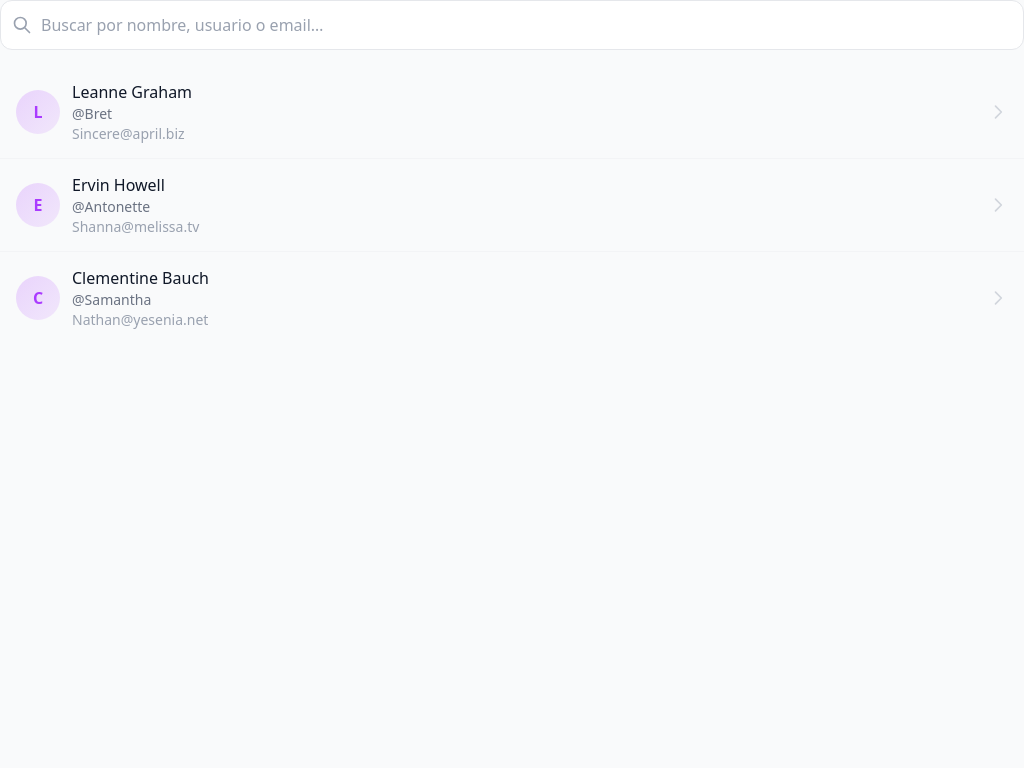
Test: Create Post Dialog › creates post successfully and closes dialog
Click the heading "Leanne Graham" at (132, 92), box [72,81,192,103]
(page scrolled)
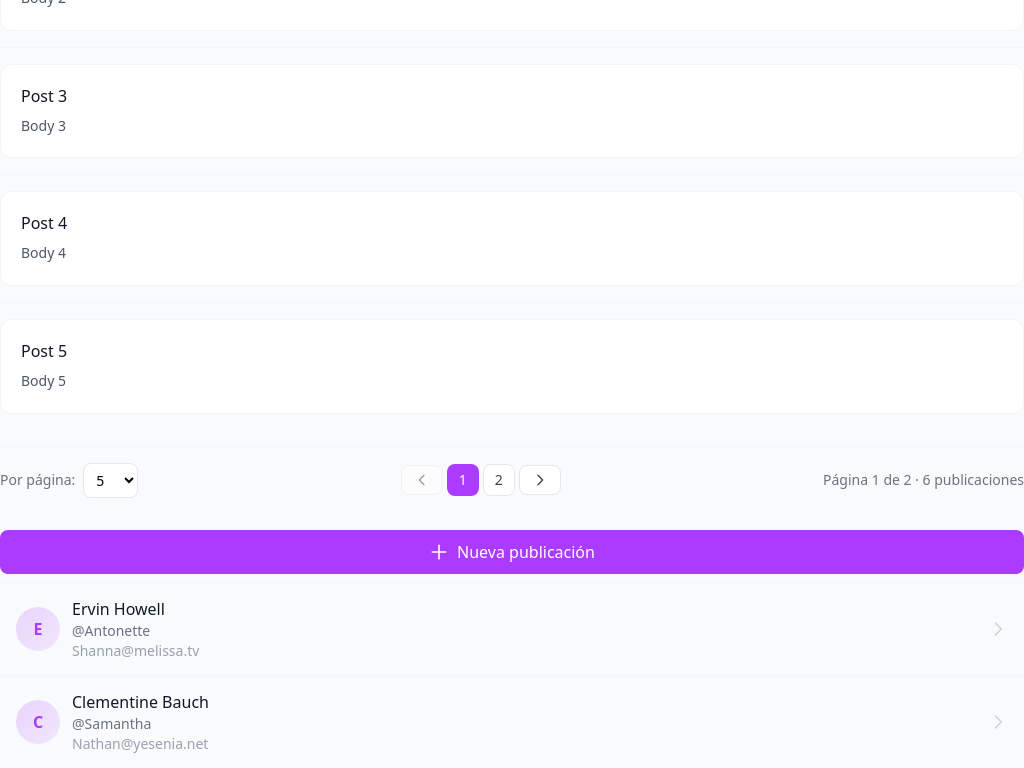
Click the button "Nueva publicación" at (512, 552), box [0,530,1023,574]
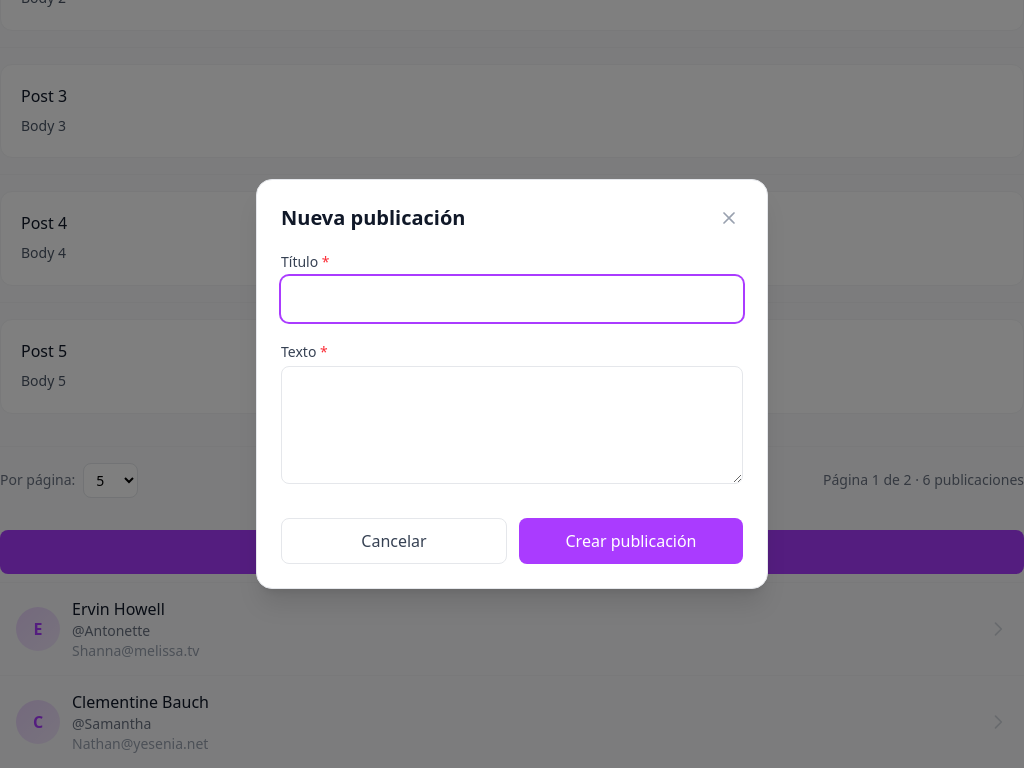
Check: the dialog "Nueva publicación" is shown
Type "Nuevo Post" into the field labelled "Título *" at (512, 299), box [281,276,743,322]
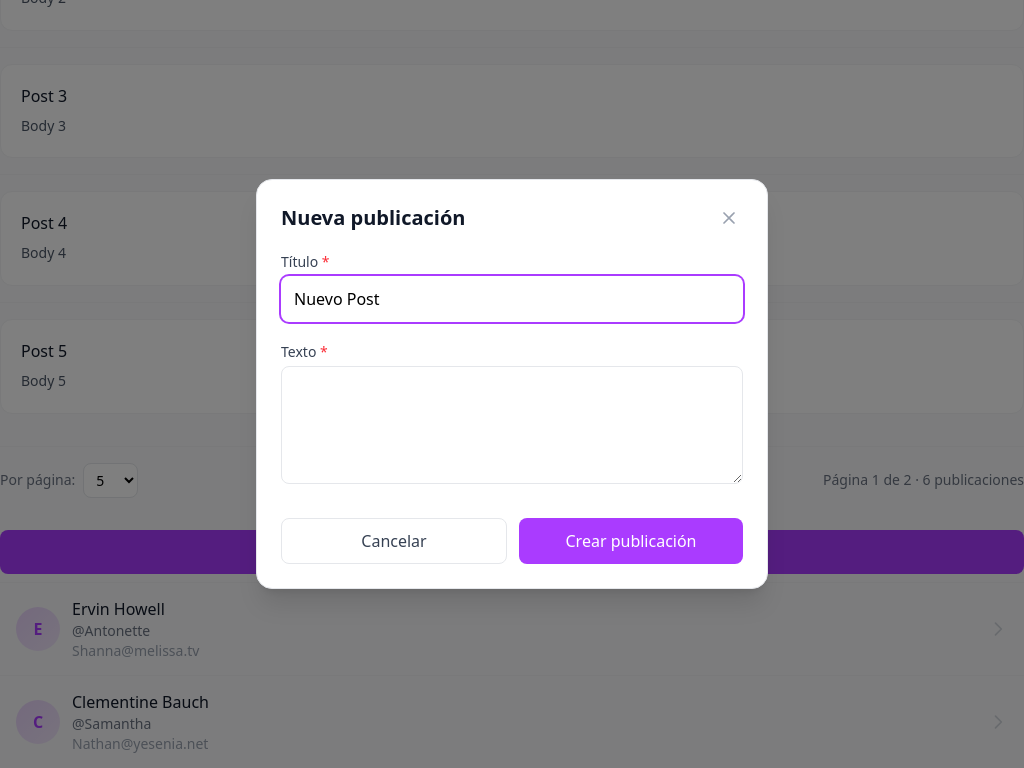
Type "Nuevo Body" into the text box labelled "Texto *" at (512, 425), box [281,366,743,484]
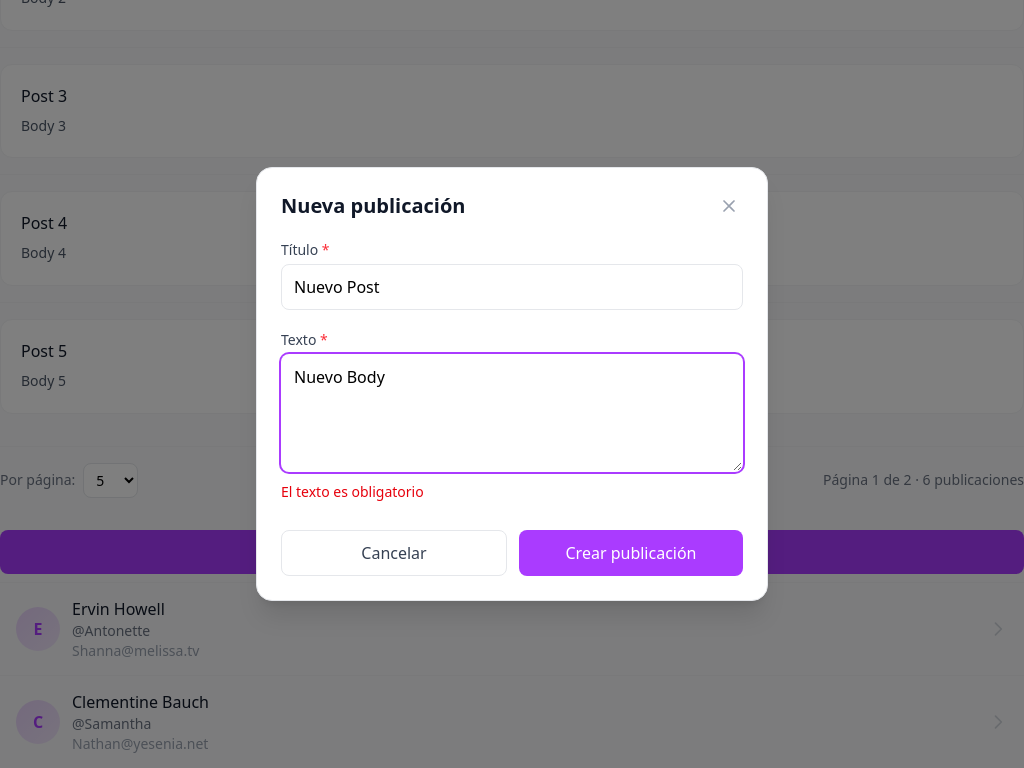
Click the button "Crear publicación" at (631, 553), box [519,530,743,576]
(page scrolled)
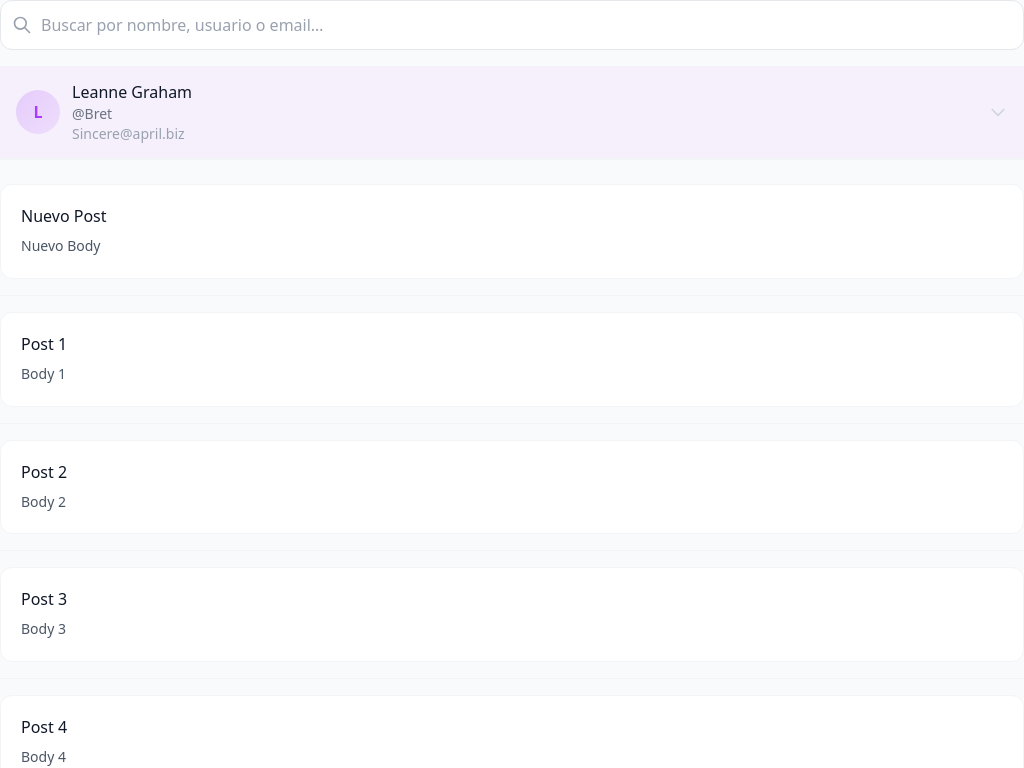
Check: the dialog is gone
Check: the heading "Nuevo Post" is shown, box [21,205,106,227]
